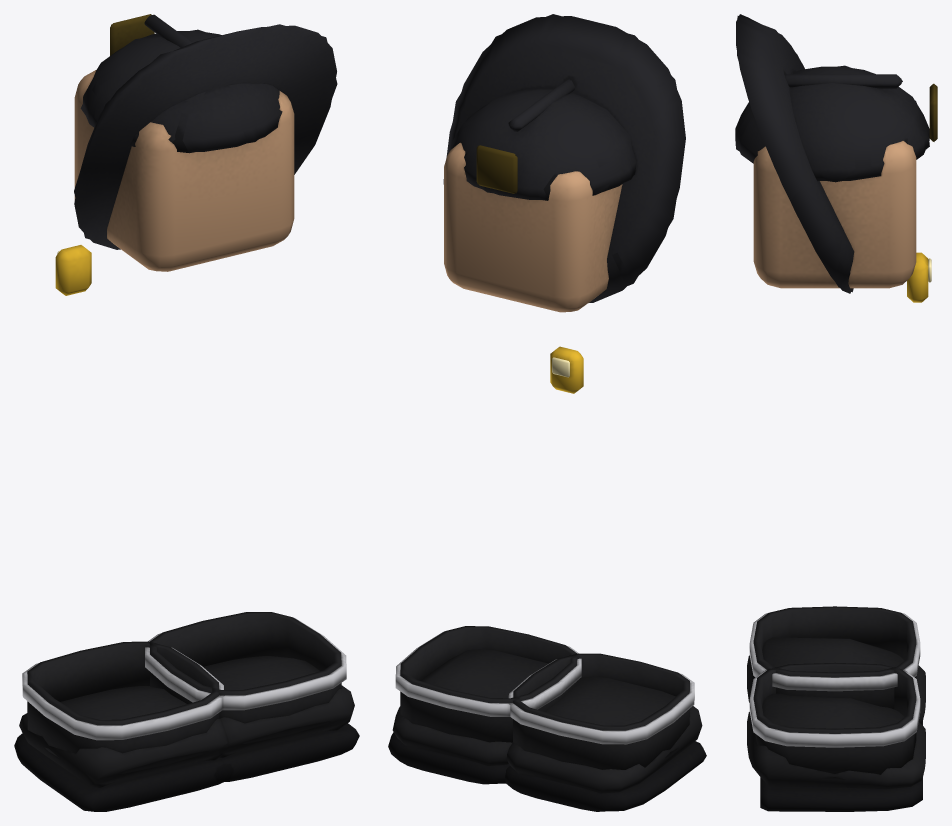
The model's file is Bloque_Oficio_Nacho.fbx.
The picture shows the model from 3 angles, left to right: view 1: azimuth 30°, elevation 25°; view 2: azimuth 150°, elevation 25°; view 3: azimuth 270°, elevation 25°; orthographic projection. The views are drawn at different scales.
Parts seen in each view (by area): view 1: Casco, CabezaBloque, BotaL, BotaCanaL, BotaCanaR, BotaR, CascoLOD, Linterna; view 2: Casco, CabezaBloque, CascoLOD, BotaL, BotaCanaL, BotaCanaR, BotaR, Linterna; view 3: Casco, CabezaBloque, BotaR, BotaCanaL, BotaCanaR, CascoLOD, BotaL, Linterna.
Boxes of the visible parts, box(x1,y1,x2,y2) form: Casco: box(74, 14, 336, 249); CabezaBloque: box(74, 70, 294, 271); BotaL: box(14, 686, 233, 811); BotaCanaL: box(22, 641, 223, 773); BotaCanaR: box(145, 612, 346, 743); BotaR: box(203, 656, 359, 781); CascoLOD: box(74, 14, 337, 239); Linterna: box(55, 245, 91, 295); Casco: box(443, 16, 685, 302); CabezaBloque: box(444, 142, 622, 312); CascoLOD: box(443, 14, 685, 285); BotaL: box(505, 676, 706, 811); BotaCanaL: box(508, 653, 694, 769); BotaCanaR: box(395, 626, 581, 742); BotaR: box(388, 649, 548, 784); Linterna: box(550, 346, 583, 393); Casco: box(735, 14, 937, 293); CabezaBloque: box(753, 141, 916, 288); BotaR: box(747, 693, 925, 811); BotaCanaL: box(749, 606, 920, 709); BotaCanaR: box(749, 662, 920, 779); CascoLOD: box(735, 16, 934, 292); BotaL: box(747, 637, 925, 725); Linterna: box(907, 252, 928, 302).
Bounding box in the file's own units: 231 × 595 × 152.
